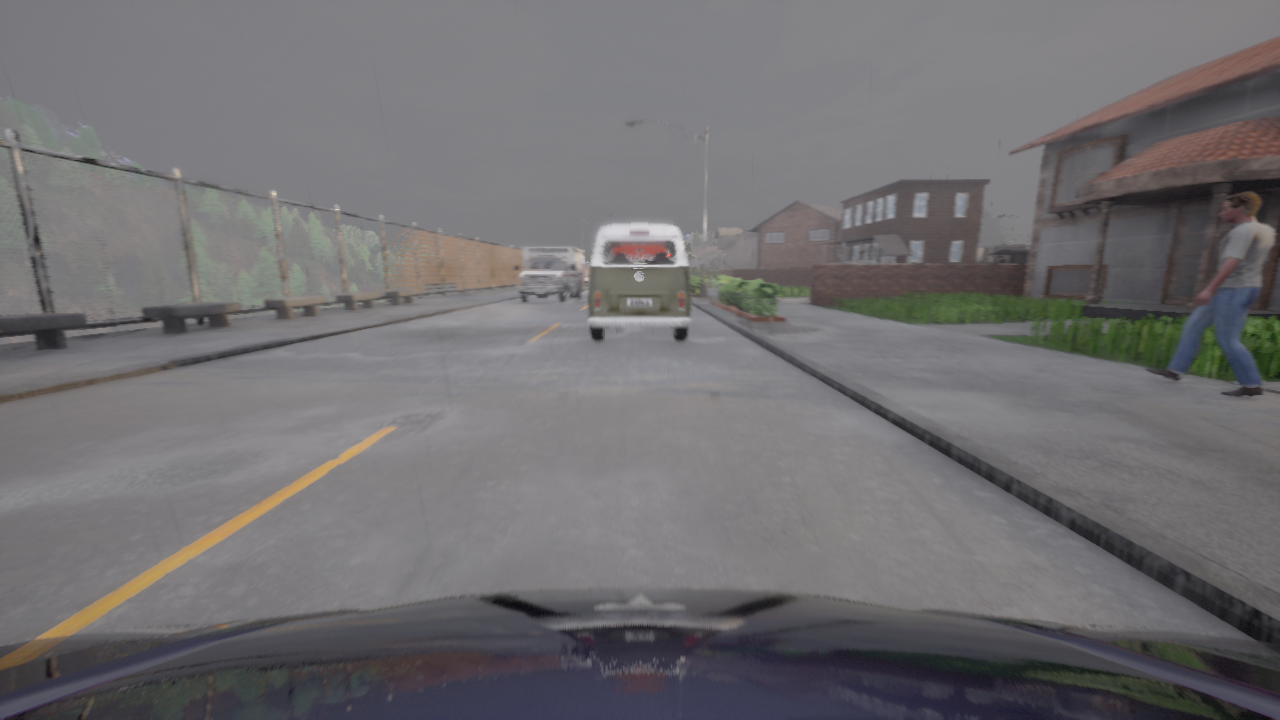cyclist: (0, 588, 1279, 719), (587, 223, 691, 341), (514, 245, 584, 302), (977, 249, 1029, 263), (710, 277, 714, 281)
pedestrian: (1145, 192, 1274, 396)
